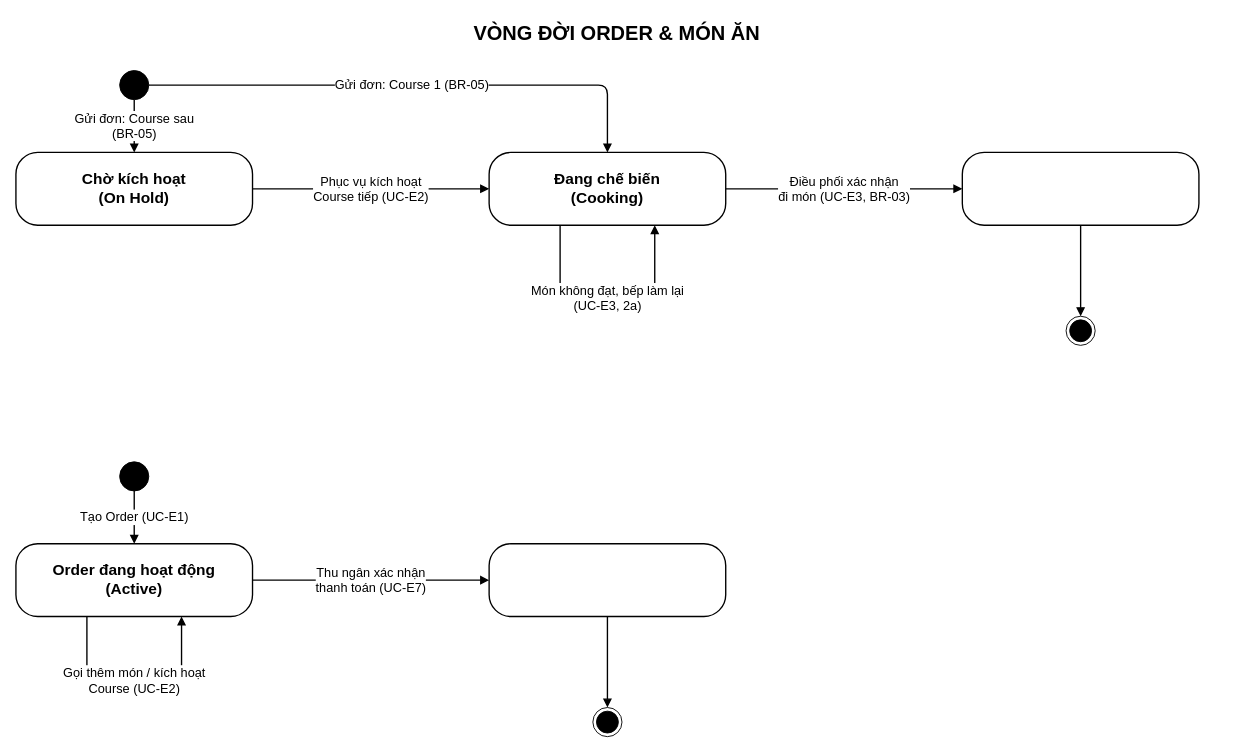
Some shapes in this 1233 by 753 pixel diagram are drawn without their labels. Here are the shapes that lost their labels. From the top down, the box of each, then its label:
(961, 151, 1199, 225): Đã ra món (Served)
(488, 543, 726, 617): Đã thanh toán (Paid)
